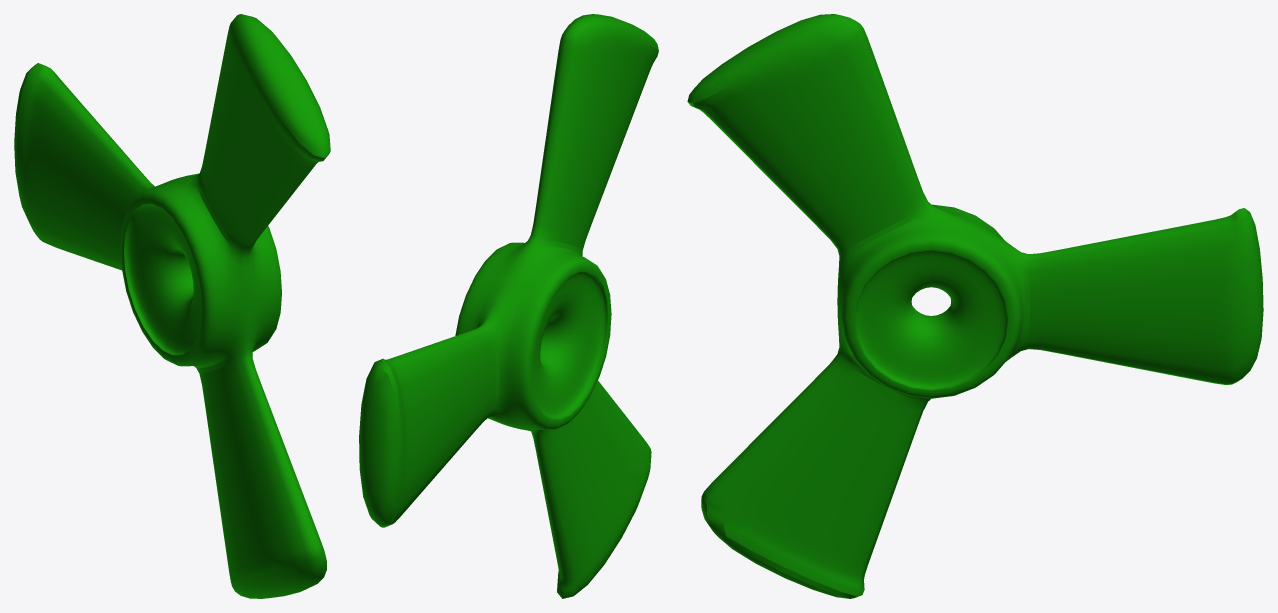
File: only_propeller_tablefan.fbx
The picture shows the model from 3 angles, left to right: view 1: azimuth 30°, elevation 25°; view 2: azimuth 150°, elevation 25°; view 3: azimuth 270°, elevation 25°; orthographic projection. The views are drawn at different scales.
Parts seen in each view (by area): view 1: propeller; view 2: propeller; view 3: propeller.
Boxes of the visible parts, <box> form: propeller: <box>14,14,330,598</box>; propeller: <box>359,14,658,598</box>; propeller: <box>687,14,1263,598</box>.
Bounding box in the file's own units: 80.8 × 583 × 526.
